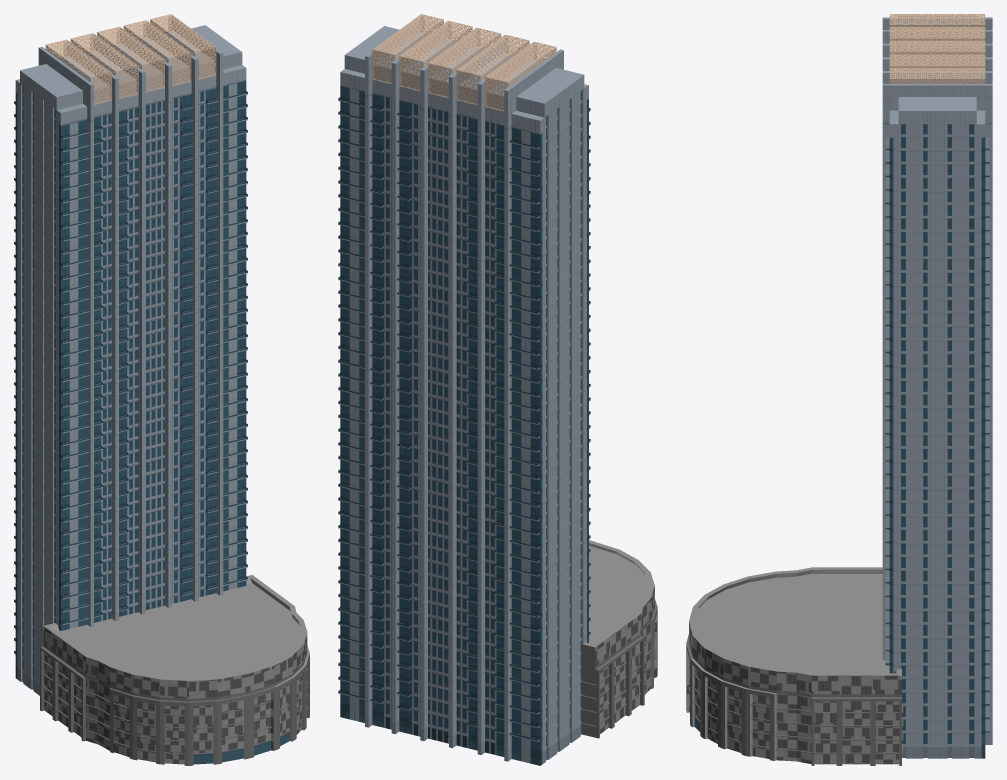
File: Building (9).glb
3 renders of one model, left to right at view 1: azimuth 30°, elevation 25°; view 2: azimuth 150°, elevation 25°; view 3: azimuth 270°, elevation 25°, orthographic. The views are drawn at different scales.
Parts seen in each view (by area): view 1: Crown-tower; view 2: Crown-tower; view 3: Crown-tower.
Part boxes in pixels (x1,y1,x2,y2): Crown-tower: [14, 14, 309, 765]; Crown-tower: [338, 14, 657, 765]; Crown-tower: [686, 14, 992, 765].
Bounding box in the file's own units: 58.07 × 161 × 67.49.
7 materials, 6 textured.
